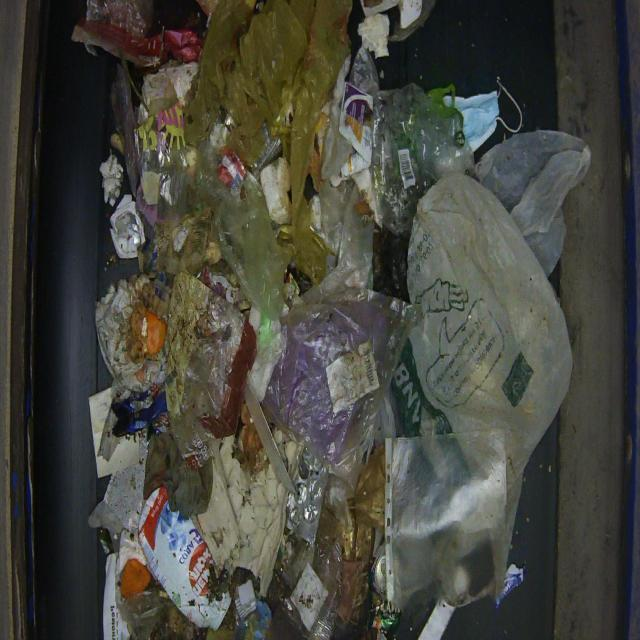other-trash: (75, 1, 589, 638)
